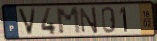0: (101, 6, 117, 35)
1: (119, 7, 129, 33)
4: (40, 7, 58, 37)
M: (54, 6, 83, 36)
N: (78, 6, 99, 36)
V: (17, 7, 38, 37)
